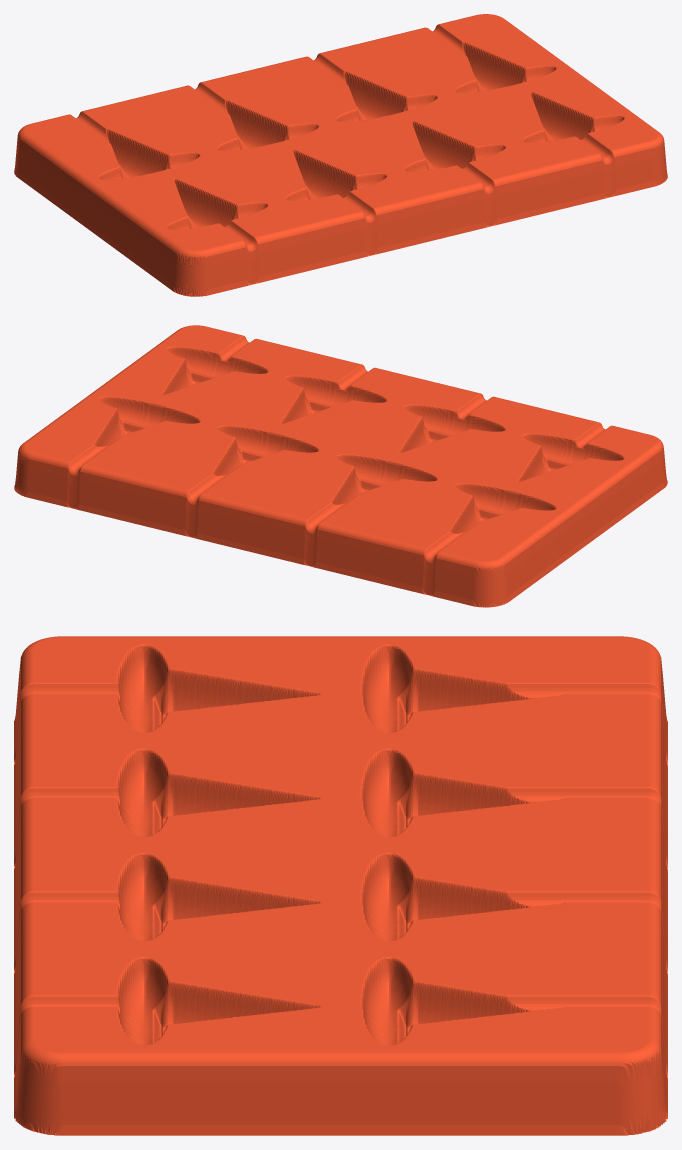
Rendered from mold.glb.
3 renders of one model, top to bottom at view 1: azimuth 30°, elevation 25°; view 2: azimuth 150°, elevation 25°; view 3: azimuth 270°, elevation 25°, orthographic. The views are drawn at different scales.
Visible parts, largest first — view 1: geometry_0; view 2: geometry_0; view 3: geometry_0.
Part boxes in pixels (<box>): geometry_0: <box>14,14,667,296</box>; geometry_0: <box>14,325,667,607</box>; geometry_0: <box>14,636,667,1135</box>.
Bounding box in the file's own units: 0.1907 × 0.0155 × 0.1222.
